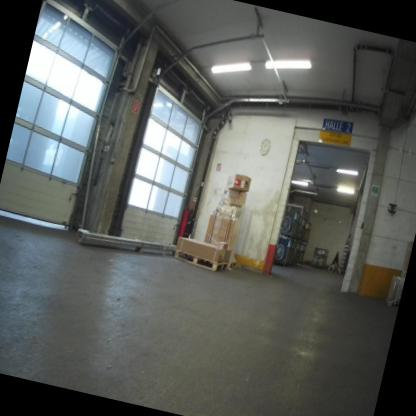pallet: (170, 246, 230, 277), (223, 257, 241, 280)
stillage: (280, 207, 303, 240), (273, 236, 295, 267), (310, 243, 331, 271), (300, 220, 314, 247), (296, 241, 310, 268), (295, 214, 308, 242), (288, 243, 302, 269)
